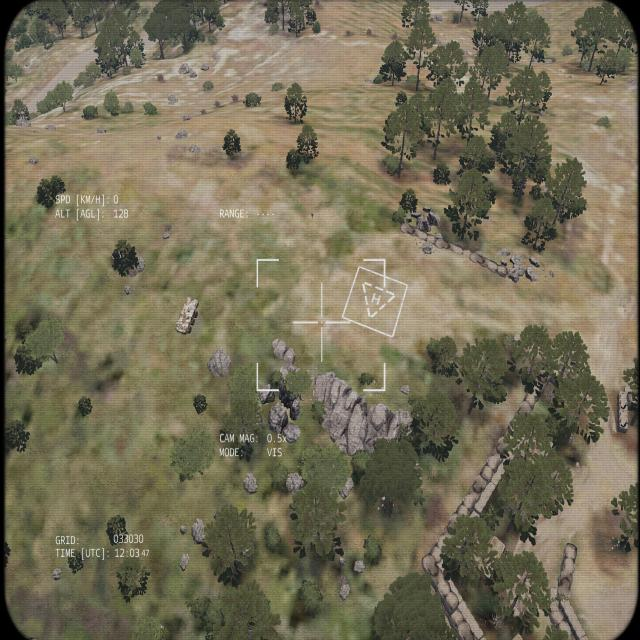apc: (174, 297, 198, 336)
